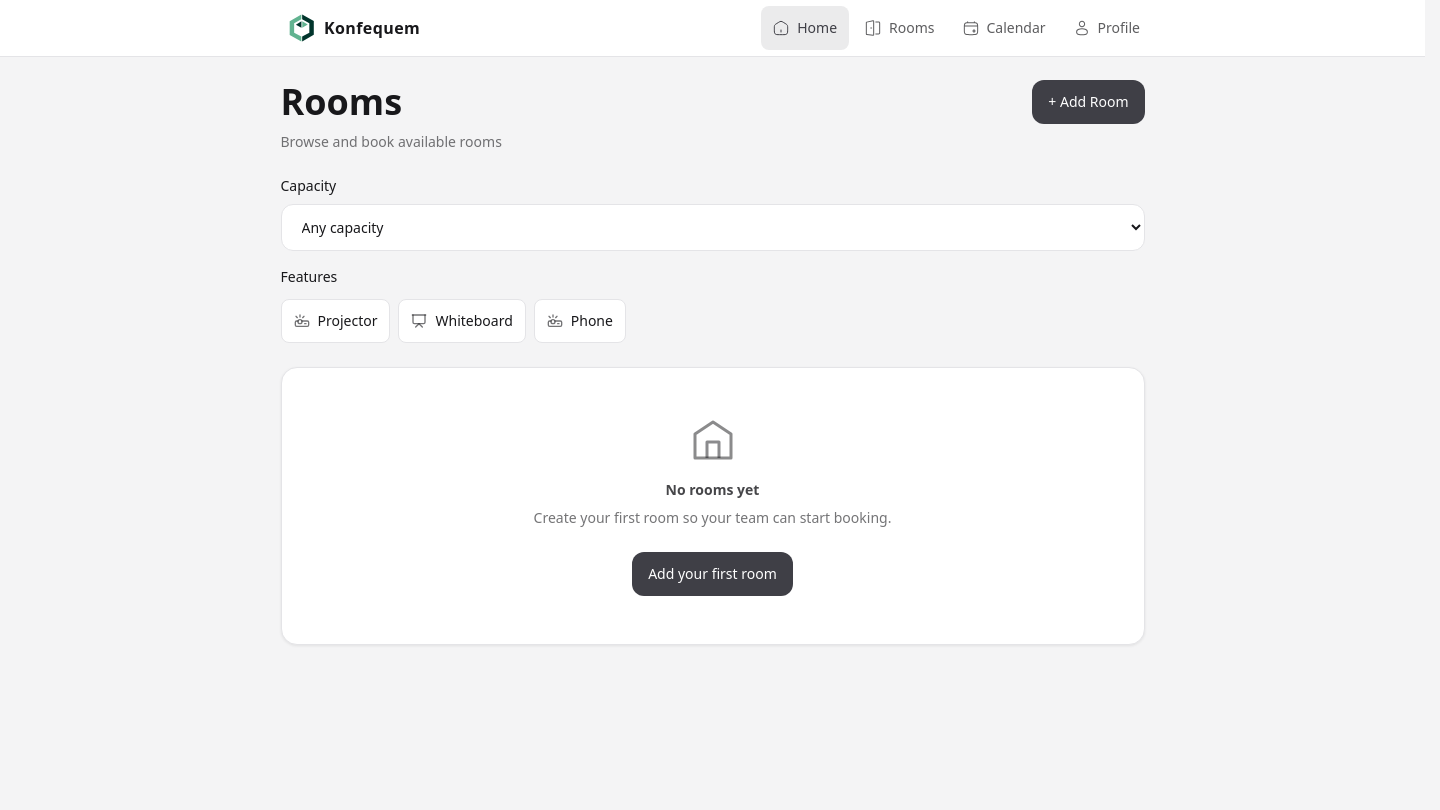
it: RoomsPage room management › shows an empty state with a create action to org_admin
Expected: the text "No rooms yet" is shown, [666, 480, 759, 499]
Click the button "Add your first room" at (712, 574), box [632, 552, 793, 596]
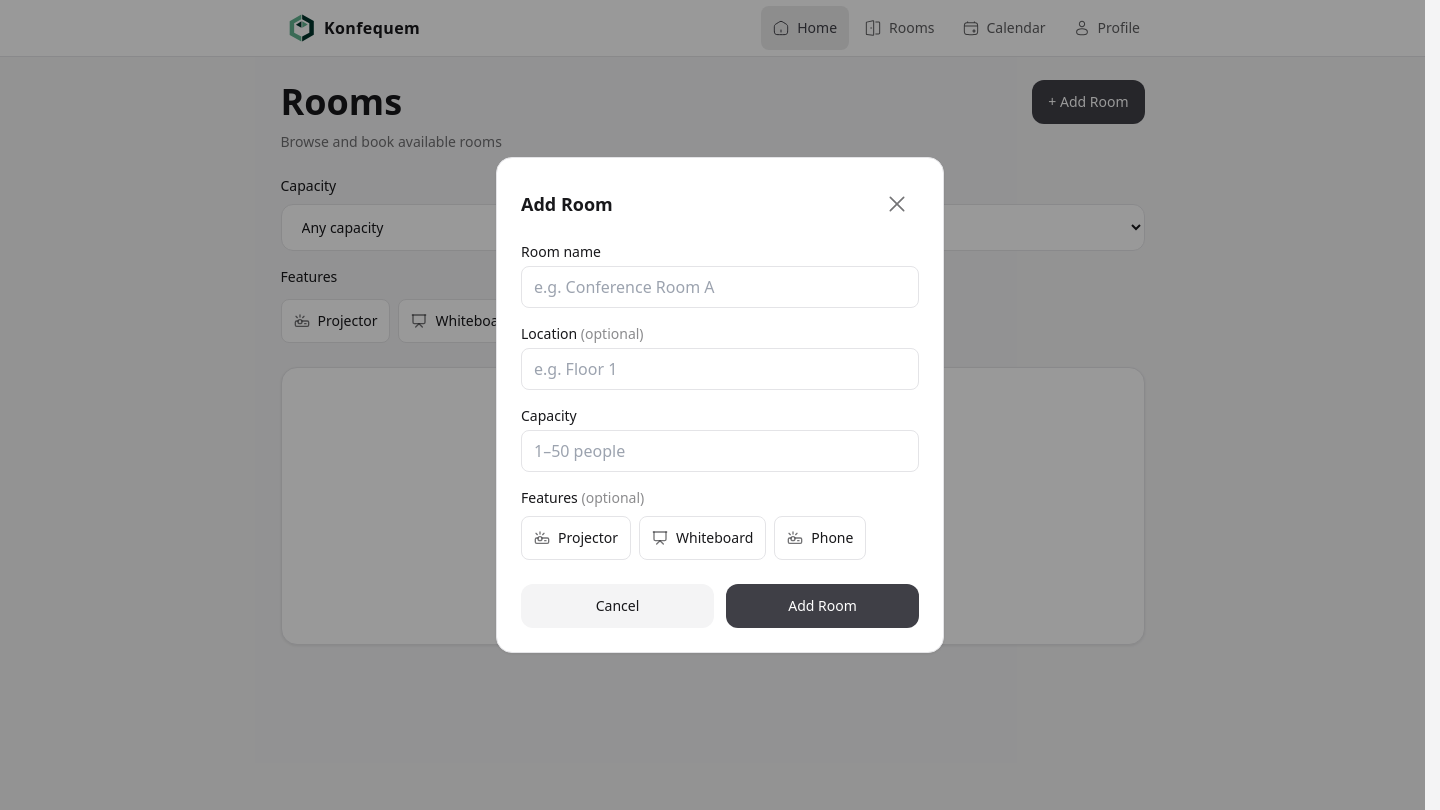
Expected: the dialog is shown
